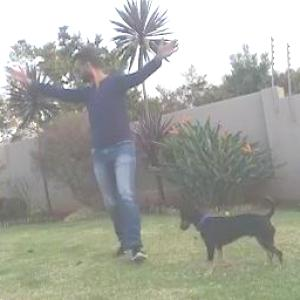takeoff: (11, 27, 185, 246)
